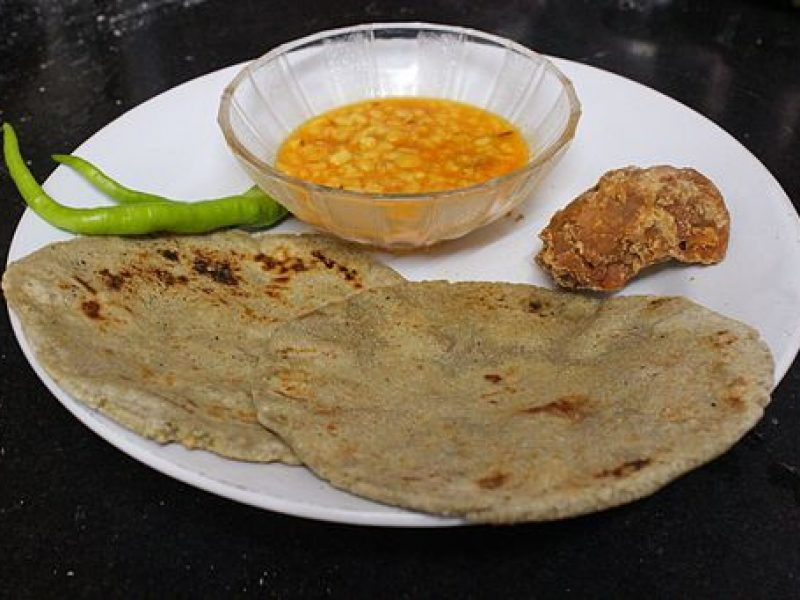aloo_paratha: (1, 232, 780, 531)
